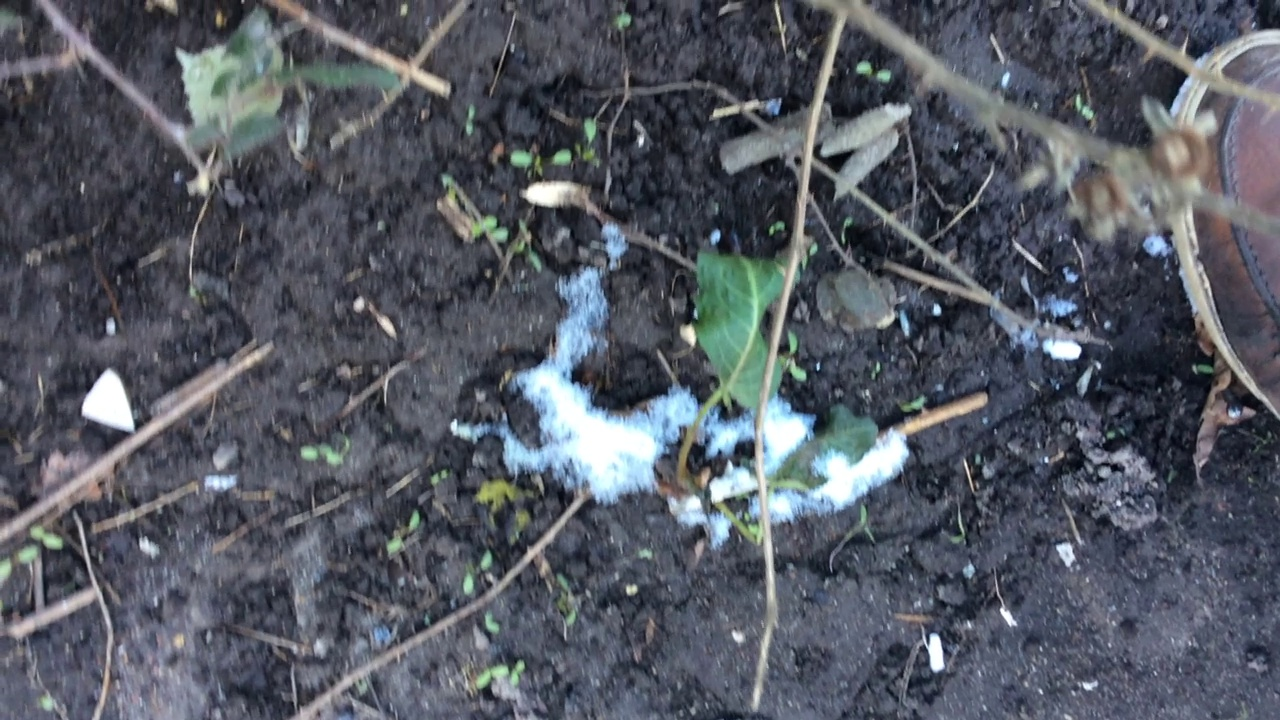root: (661, 458, 747, 524)
rumex: (656, 243, 878, 520)
